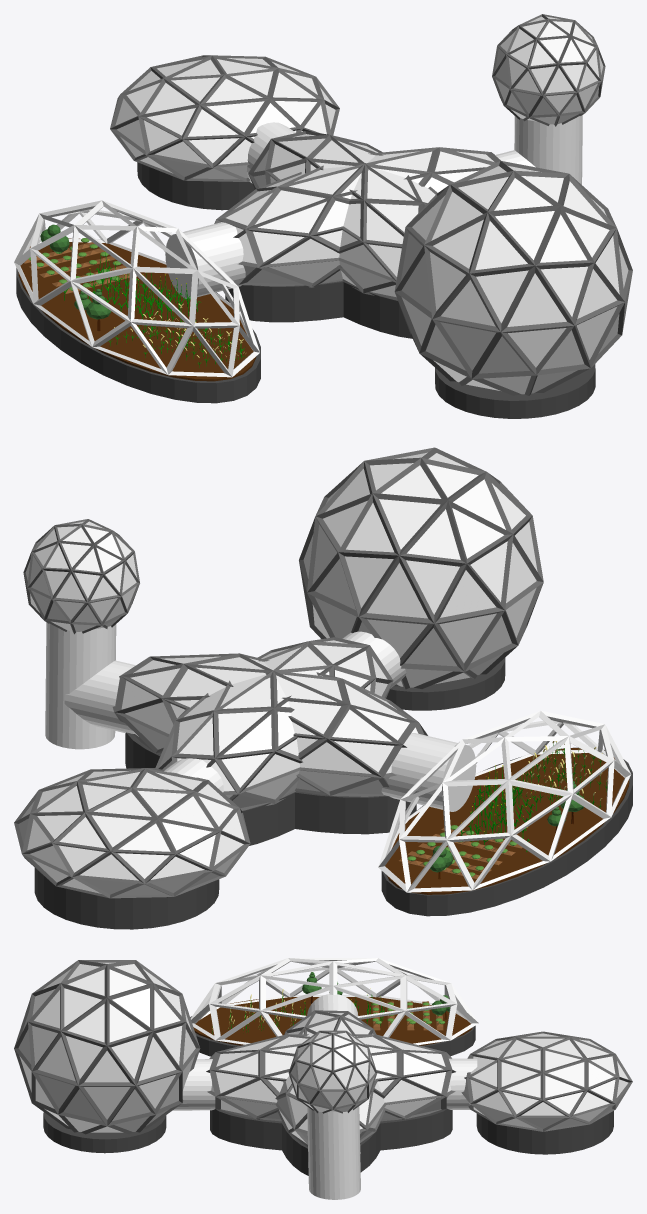
Rendered from MarsScienceLabPlantFarm_1.fbx.
3 renders of one model, top to bottom at view 1: azimuth 30°, elevation 25°; view 2: azimuth 150°, elevation 25°; view 3: azimuth 270°, elevation 25°, orthographic. The views are drawn at different scales.
Parts seen in each view (by area): view 1: Icosphere.146; view 2: Icosphere.146; view 3: Icosphere.146.
Boxes of the visible parts, left/top/right/bottom form: Icosphere.146: left=14, top=14, right=632, bottom=418; Icosphere.146: left=14, top=447, right=632, bottom=929; Icosphere.146: left=14, top=958, right=632, bottom=1199.
Size of the model in its own units: 1111 by 436 by 1448.
